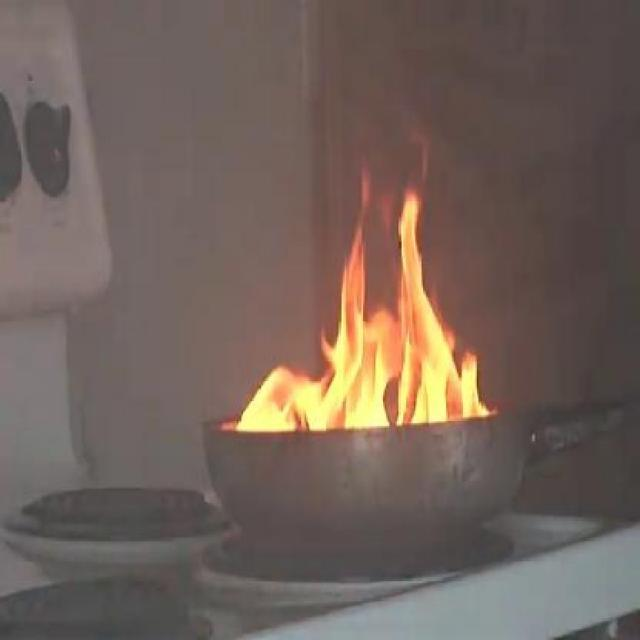fire: (232, 168, 494, 440)
